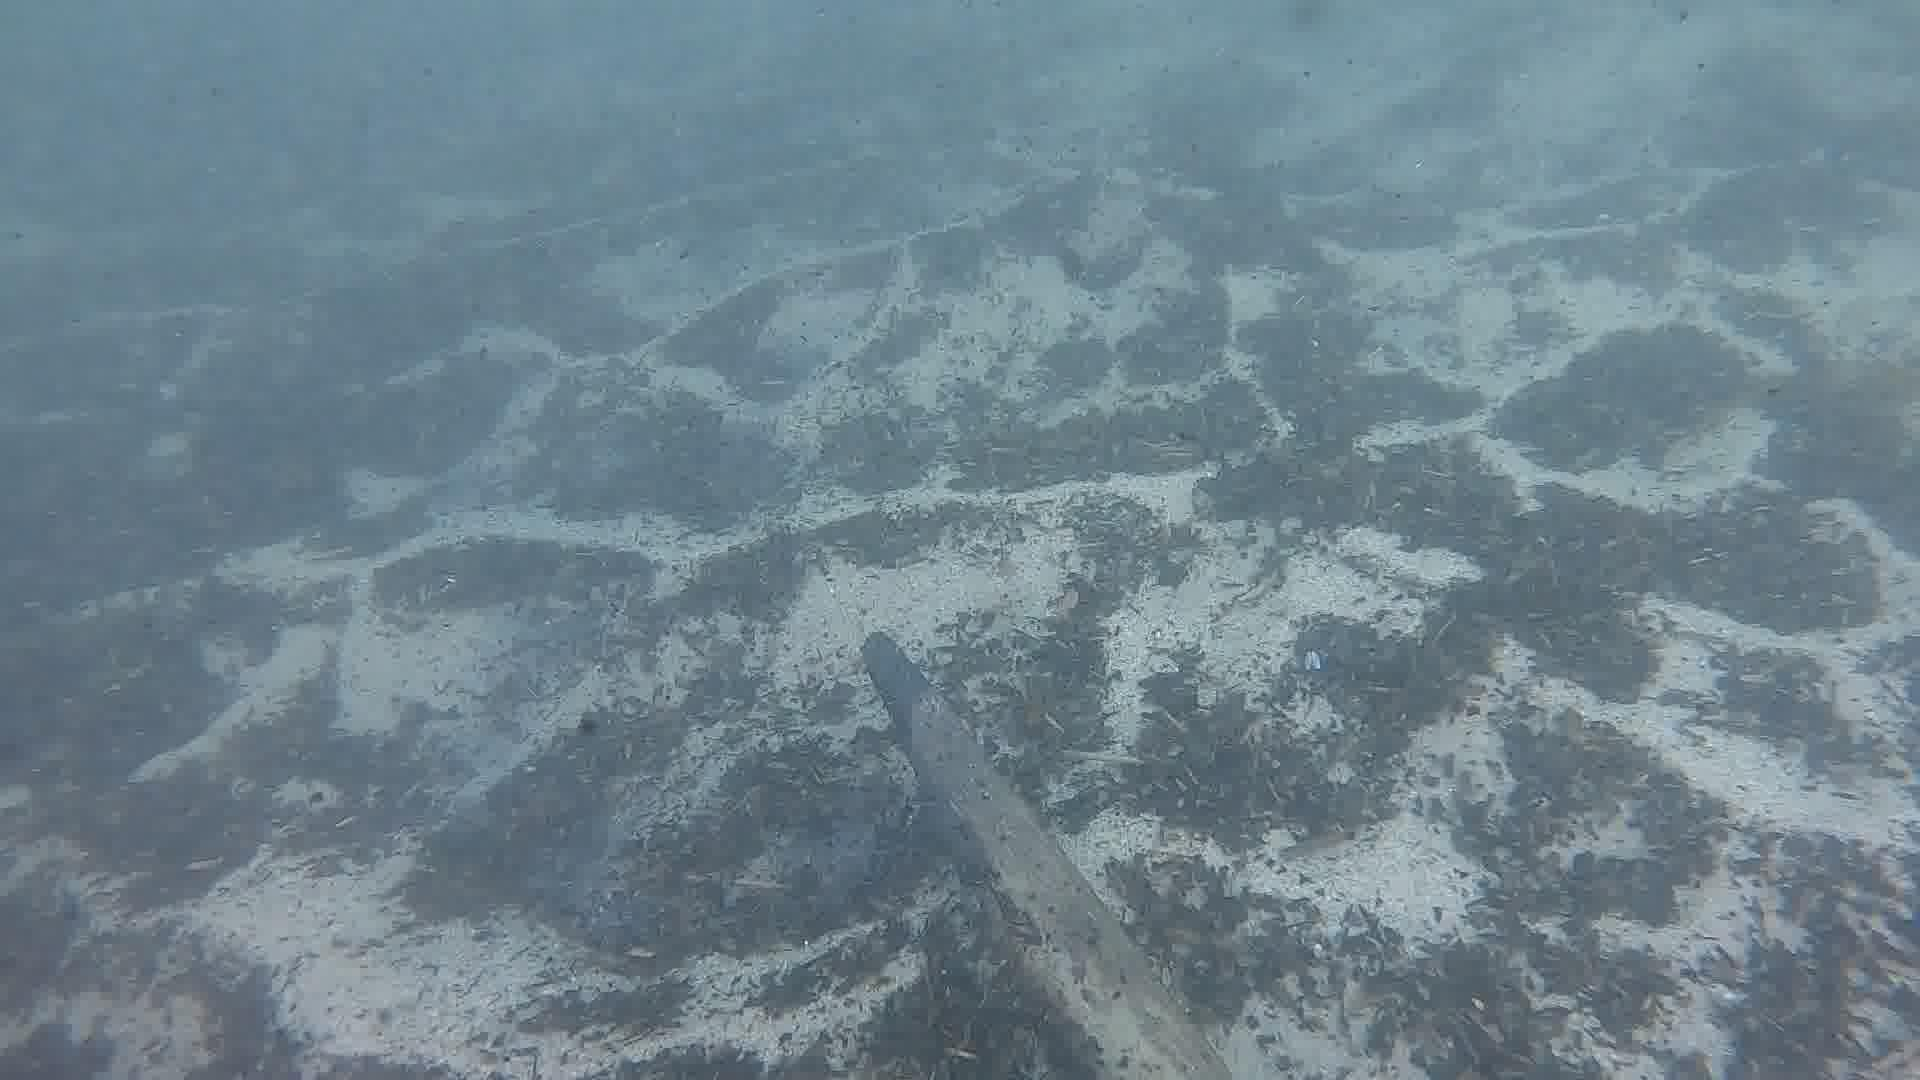wood: (858, 628, 1237, 1080)
